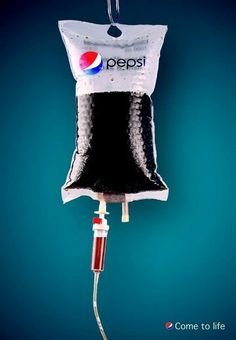pepsi: (77, 49, 102, 73)
